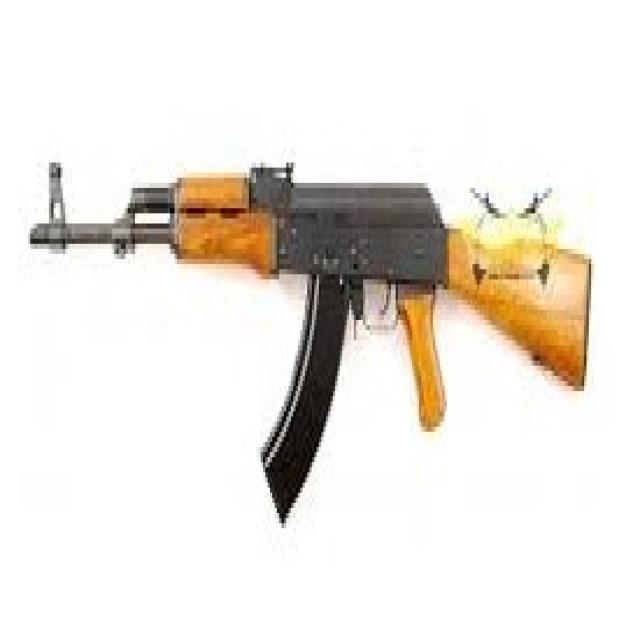rifle: (25, 137, 600, 552)
